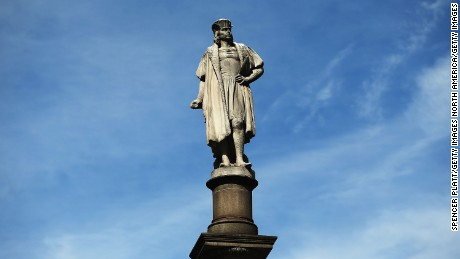person-like: (188, 17, 268, 167)
